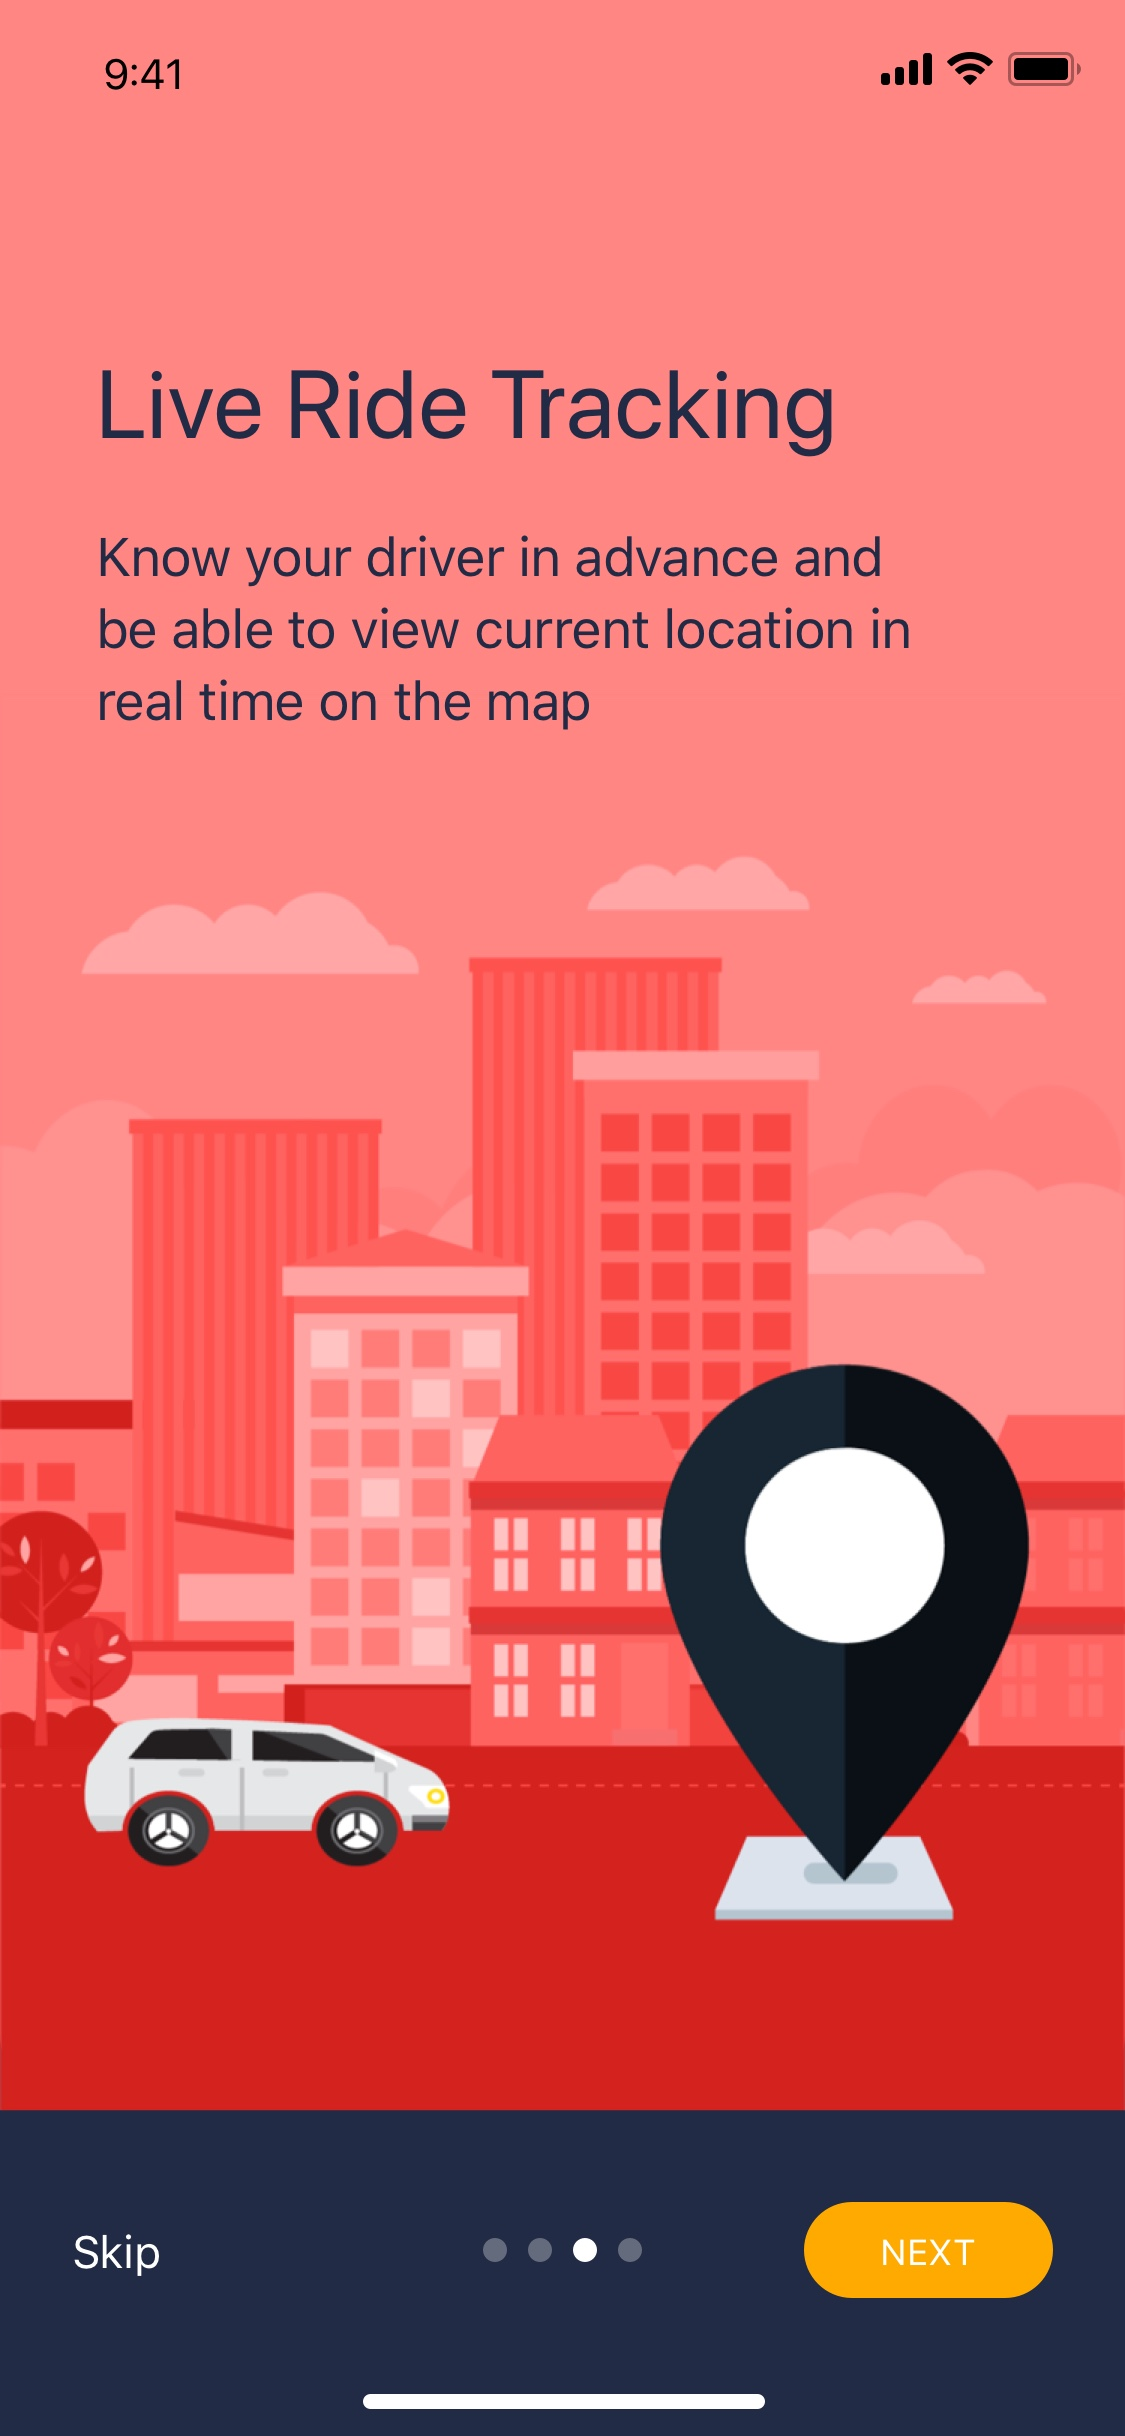Image: (2, 854, 1125, 2110)
PageIndicator: (482, 2236, 643, 2264)
Text: (98, 536, 911, 733), (101, 368, 830, 458), (75, 2232, 162, 2278)
TextButton: (803, 2201, 1055, 2299)
